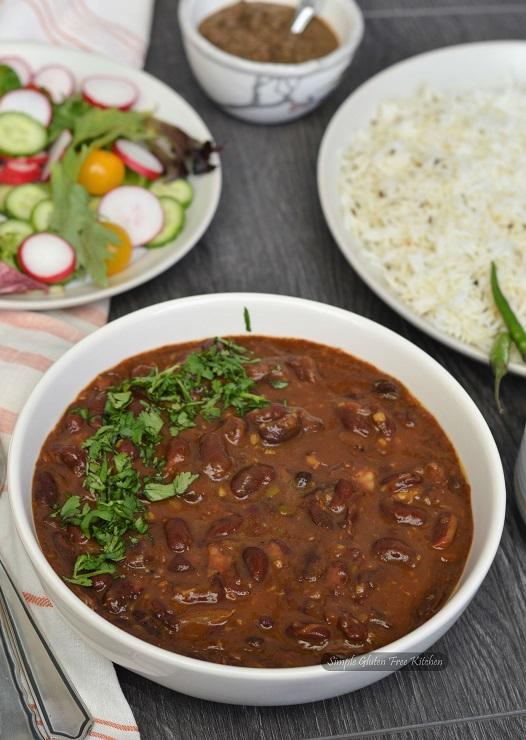rajma: (64, 350, 482, 666)
